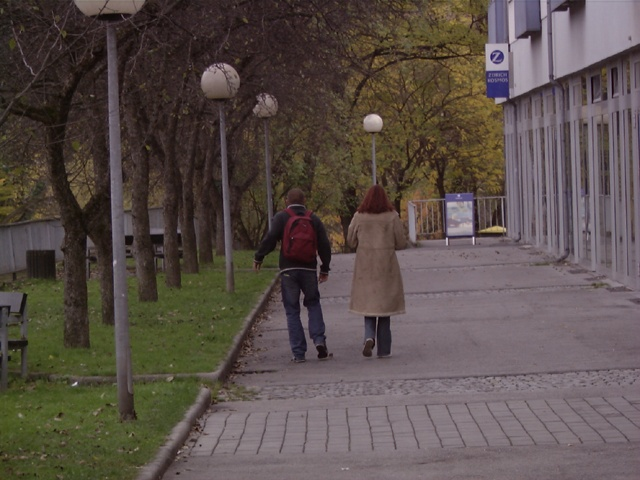person: (273, 188, 330, 360), (353, 186, 407, 358)
